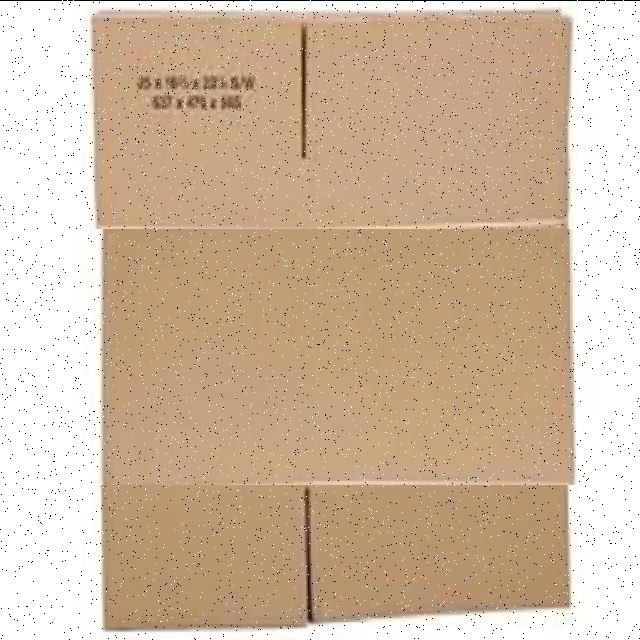normal: (94, 228, 577, 484)
